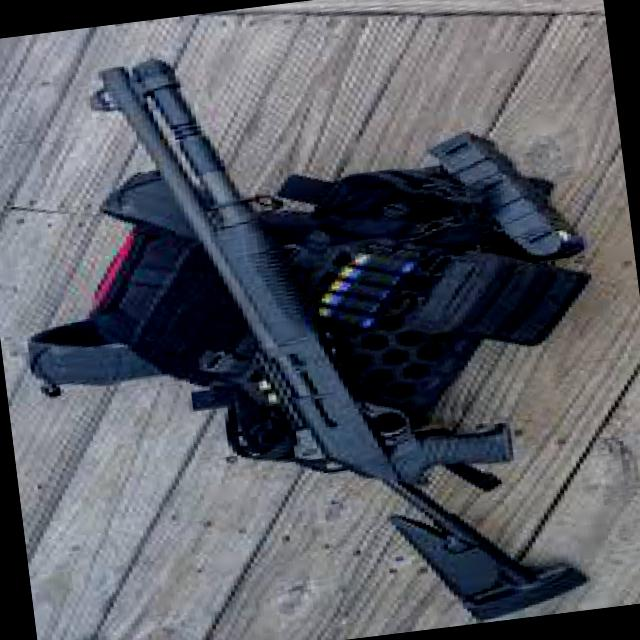long weapon: (62, 24, 618, 626)
